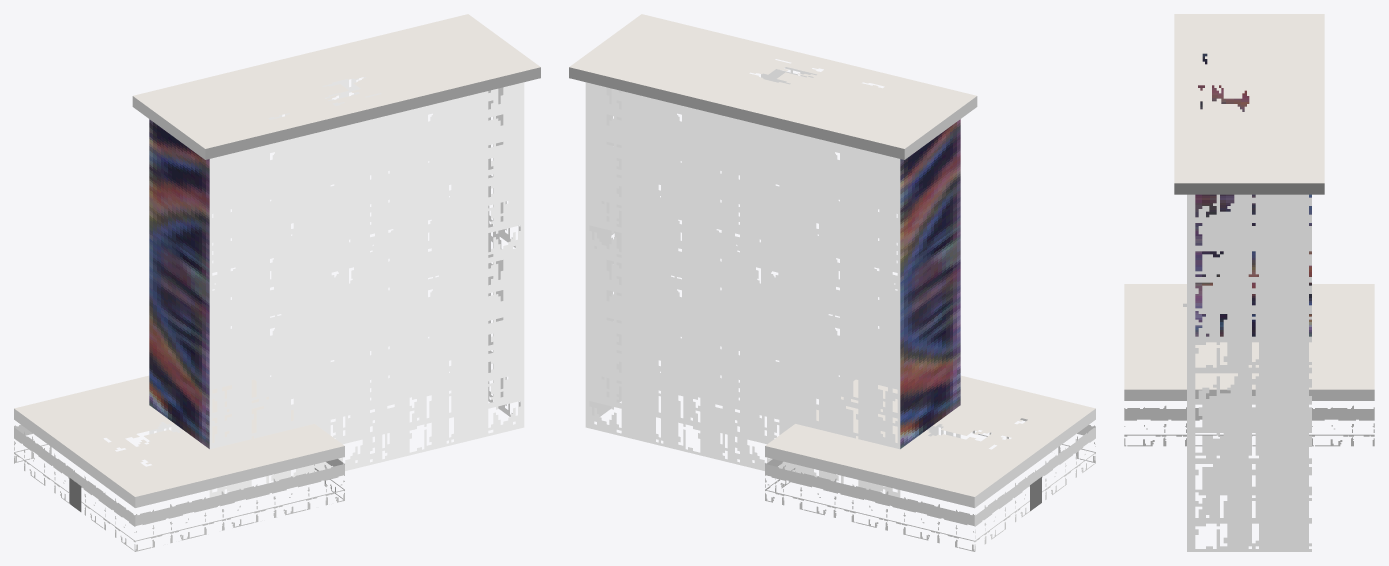
The model's file is uvmd-0061.glb.
The picture shows the model from 3 angles, left to right: view 1: azimuth 30°, elevation 25°; view 2: azimuth 150°, elevation 25°; view 3: azimuth 270°, elevation 25°; orthographic projection. The views are drawn at different scales.
Visible parts, largest first — view 1: uvmd-0061; view 2: uvmd-0061; view 3: uvmd-0061.
Boxes of the visible parts, x1,y1,x2,y2 form: uvmd-0061: (14,14,540,551); uvmd-0061: (569,14,1095,551); uvmd-0061: (1124,14,1374,551).
Bounding box in the file's own units: 410 × 330 × 200.
5 materials, 5 textured.
